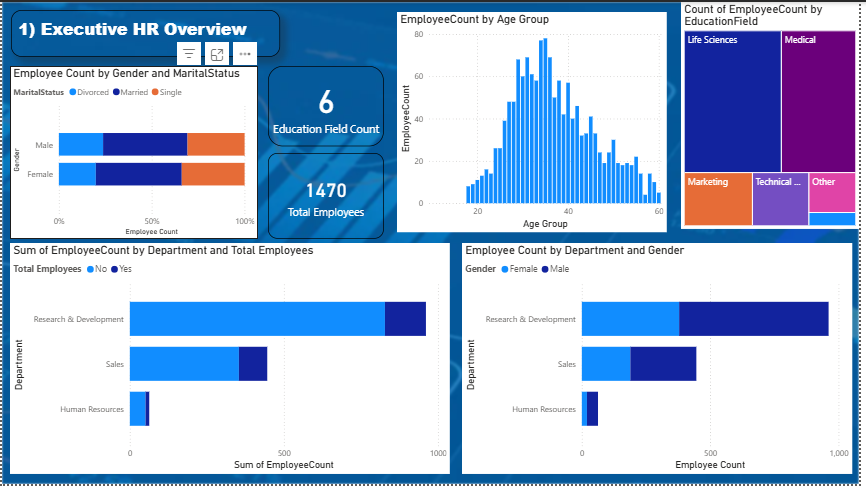

The dashboard page shown, as its layout file describes it:
{"tool":"powerbi","page":{"name":"Page 1","canvas":[1280,720],"ordinal":0},"visuals":[{"type":"image","box":[0,0,1280.2,720],"z":0},{"type":"barChart","fields":{"Category":["WA_Fn-UseC_-HR-Employee-Attrition.Department"],"Y":["Sum(WA_Fn-UseC_-HR-Employee-Attrition.EmployeeCount)"],"Series":["WA_Fn-UseC_-HR-Employee-Attrition.Attrition"]},"box":[12,360,657.3,345.1],"z":1000},{"type":"barChart","fields":{"Category":["WA_Fn-UseC_-HR-Employee-Attrition.Department"],"Y":["CountNonNull(WA_Fn-UseC_-HR-Employee-Attrition.EmployeeCount)"],"Series":["WA_Fn-UseC_-HR-Employee-Attrition.Gender"]},"box":[687.1,360,582.6,345.1],"z":2000},{"type":"treemap","fields":{"Group":["WA_Fn-UseC_-HR-Employee-Attrition.EducationField"],"Values":["CountNonNull(WA_Fn-UseC_-HR-Employee-Attrition.EmployeeCount)"]},"box":[1014.3,0,265.9,339.1],"z":3000},{"type":"clusteredColumnChart","fields":{"Category":["WA_Fn-UseC_-HR-Employee-Attrition.Age"],"Y":["CountNonNull(WA_Fn-UseC_-HR-Employee-Attrition.EmployeeCount)"]},"box":[590,14.9,403.3,328.6],"z":4000},{"type":"textbox","box":[13.4,12,401.8,70.2],"z":5000},{"type":"hundredPercentStackedBarChart","fields":{"Category":["WA_Fn-UseC_-HR-Employee-Attrition.Gender"],"Series":["WA_Fn-UseC_-HR-Employee-Attrition.MaritalStatus"],"Y":["Sum(WA_Fn-UseC_-HR-Employee-Attrition.EmployeeCount)"]},"box":[12,95.6,370.5,258.4],"z":6000},{"type":"card","fields":{"Values":["Count(WA_Fn-UseC_-HR-Employee-Attrition.EducationField)"]},"box":[397.3,95.6,173.3,124],"z":7000},{"type":"card","fields":{"Values":["CountNonNull(WA_Fn-UseC_-HR-Employee-Attrition.Attrition)"]},"box":[397.3,228.5,173.3,115],"z":7001}]}

Visuals, with their boxes in screenshot pixels (x1, y1, x2, y2), scaled from the page's 1280x720 canvas onto the 866x490 screenshot:
image: [left=0, top=0, right=865, bottom=489]
barChart - WA_Fn-UseC_-HR-Employee-Attrition.Department x Sum(WA_Fn-UseC_-HR-Employee-Attrition.EmployeeCount): [left=8, top=245, right=453, bottom=480]
barChart - WA_Fn-UseC_-HR-Employee-Attrition.Department x CountNonNull(WA_Fn-UseC_-HR-Employee-Attrition.EmployeeCount): [left=465, top=245, right=859, bottom=480]
treemap - WA_Fn-UseC_-HR-Employee-Attrition.EducationField x CountNonNull(WA_Fn-UseC_-HR-Employee-Attrition.EmployeeCount): [left=686, top=0, right=865, bottom=231]
clusteredColumnChart - WA_Fn-UseC_-HR-Employee-Attrition.Age x CountNonNull(WA_Fn-UseC_-HR-Employee-Attrition.EmployeeCount): [left=399, top=10, right=672, bottom=234]
textbox: [left=9, top=8, right=281, bottom=56]
hundredPercentStackedBarChart - WA_Fn-UseC_-HR-Employee-Attrition.Gender x WA_Fn-UseC_-HR-Employee-Attrition.MaritalStatus: [left=8, top=65, right=259, bottom=241]
card - Count(WA_Fn-UseC_-HR-Employee-Attrition.EducationField): [left=269, top=65, right=386, bottom=149]
card - CountNonNull(WA_Fn-UseC_-HR-Employee-Attrition.Attrition): [left=269, top=156, right=386, bottom=234]
